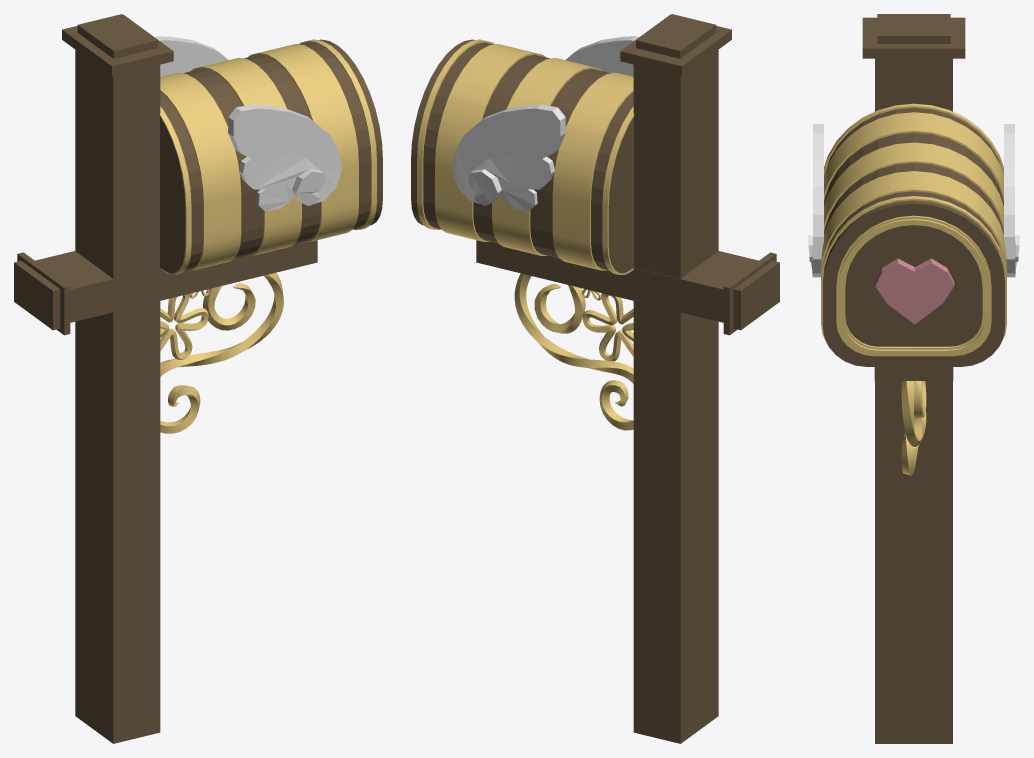
File: mailbox.fbx
3 renders of one model, left to right at view 1: azimuth 30°, elevation 25°; view 2: azimuth 150°, elevation 25°; view 3: azimuth 270°, elevation 25°, orthographic. The views are drawn at different scales.
Visible parts, largest first — view 1: wood, Body, woodholder, Wings, Stripe, Stripe3, Swirl, Stripe2, Lid1, big_flower, Stripe4; view 2: wood, Body, woodholder, Wings, Stripe, Stripe3, Swirl, Stripe2, Lid1, big_flower, Stripe4; view 3: wood, Lid1, Body, Stripe3, Stripe2, Stripe, Wings, heart, Swirl, woodholder, Stripe4.
Part boxes in pixels (bbox=[...]): wood: bbox=[62, 14, 173, 743]; Body: bbox=[160, 42, 370, 273]; woodholder: bbox=[14, 240, 317, 335]; Wings: bbox=[154, 36, 341, 211]; Stripe: bbox=[160, 72, 241, 270]; Stripe3: bbox=[247, 44, 358, 241]; Swirl: bbox=[160, 272, 283, 433]; Stripe2: bbox=[191, 57, 301, 255]; Lid1: bbox=[299, 39, 382, 229]; big_flower: bbox=[160, 293, 208, 359]; Stripe4: bbox=[159, 106, 191, 274]; wood: bbox=[620, 14, 731, 743]; Body: bbox=[423, 42, 633, 273]; woodholder: bbox=[476, 240, 779, 335]; Wings: bbox=[452, 36, 639, 211]; Stripe: bbox=[552, 72, 633, 270]; Stripe3: bbox=[435, 44, 546, 241]; Swirl: bbox=[514, 273, 633, 430]; Stripe2: bbox=[492, 57, 602, 255]; Lid1: bbox=[411, 39, 494, 229]; big_flower: bbox=[582, 293, 633, 361]; Stripe4: bbox=[602, 106, 634, 274]; wood: bbox=[862, 14, 965, 743]; Lid1: bbox=[821, 196, 1006, 366]; Body: bbox=[824, 108, 1003, 257]; Stripe3: bbox=[821, 171, 1006, 277]; Stripe2: bbox=[824, 142, 1003, 232]; Stripe: bbox=[824, 112, 1003, 202]; Wings: bbox=[808, 124, 1019, 277]; heart: bbox=[875, 258, 954, 324]; Swirl: bbox=[901, 381, 926, 475]; woodholder: bbox=[874, 367, 953, 380]; Stripe4: bbox=[824, 103, 1003, 175].
Bounding box in the file's own units: 9.89 × 20.82 × 5.65.
